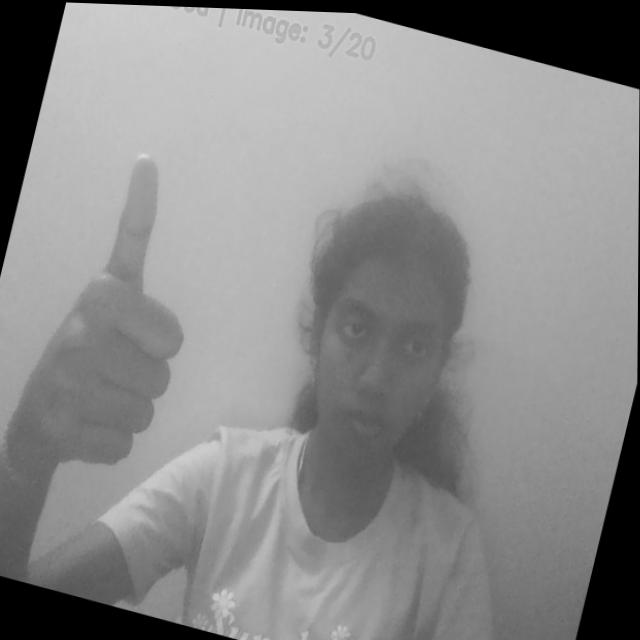Good: (0, 124, 225, 482)
